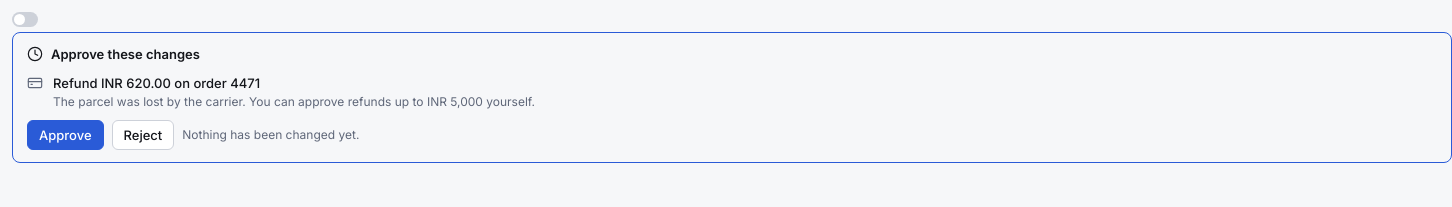
an approval that is slow or fails › clears the error when the next try goes through
Click the button "Approve". click: (65, 135)
box: [27,120,104,150]
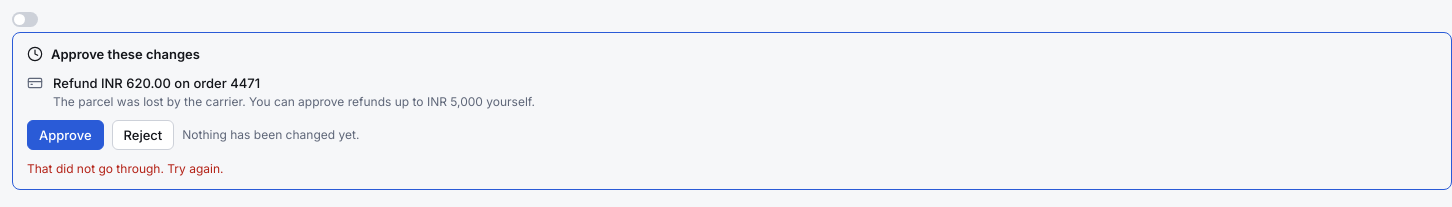
Expected: the message "That did not go through. Try again." is shown, [27,161,224,176]
Click the button "Approve". click: (65, 135)
box: [27,120,104,150]
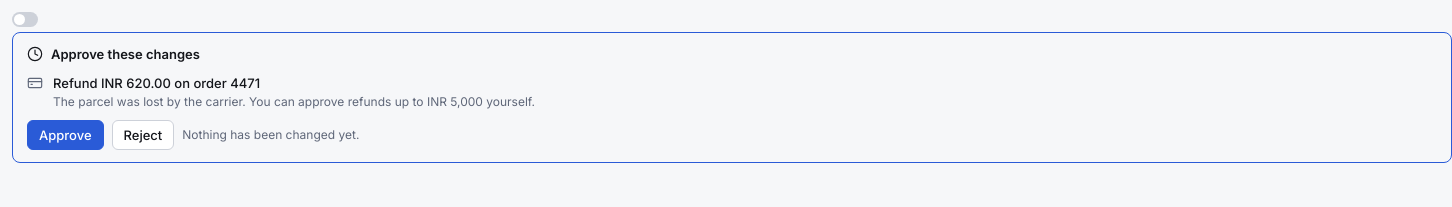
Expected: the message "That did not go through. Try again." is gone
